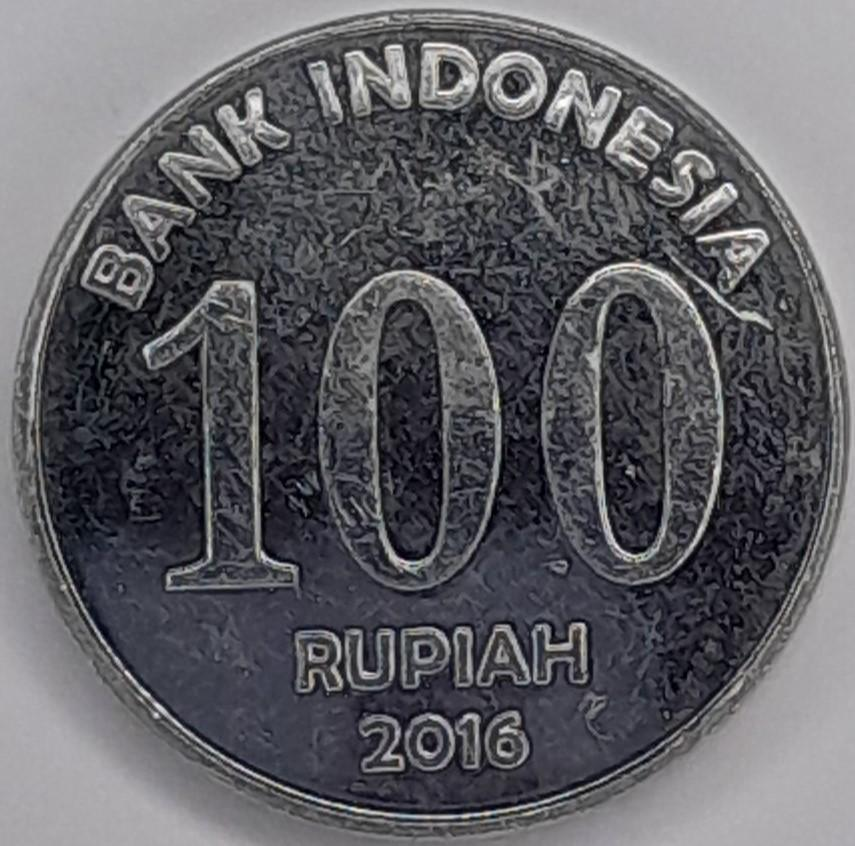coin_100_e2016: (7, 1, 853, 841)
